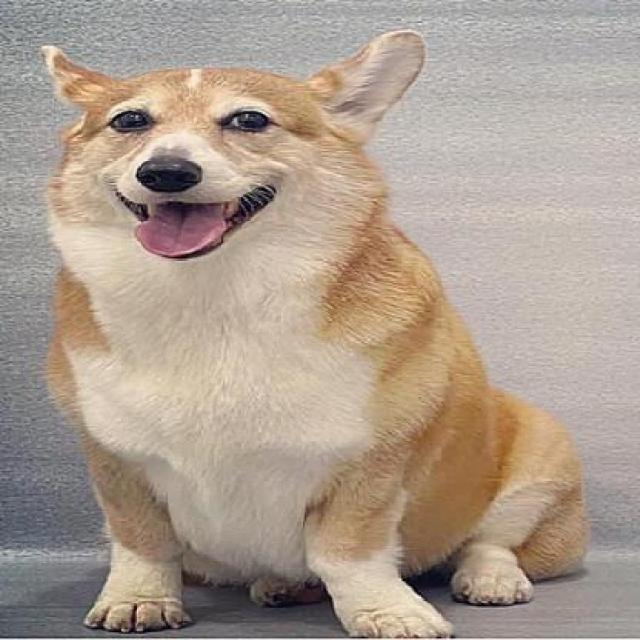Dog: (28, 27, 592, 638)
